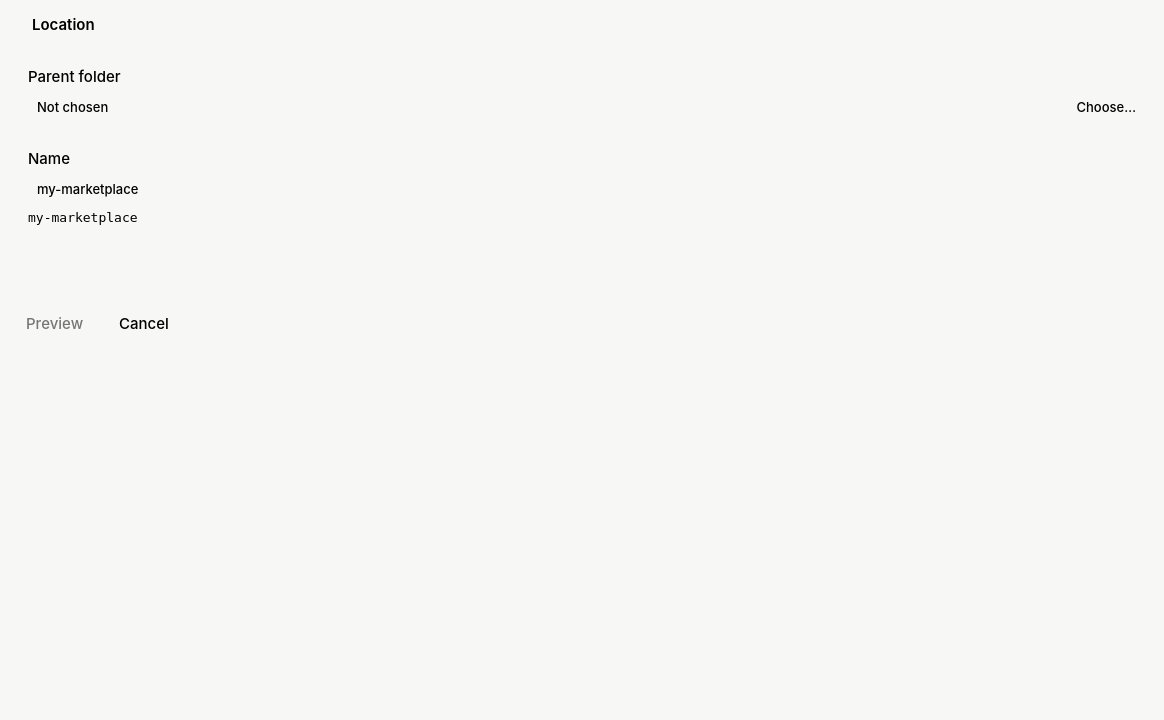
CreateMarketplaceFlow › chooses a parent, previews exact actions, then applies and reports the receipt
Step 1. Click the button with test id "create-marketplace-pick-parent" → coordinates (1106, 108), box 1064,94 -> 1148,122
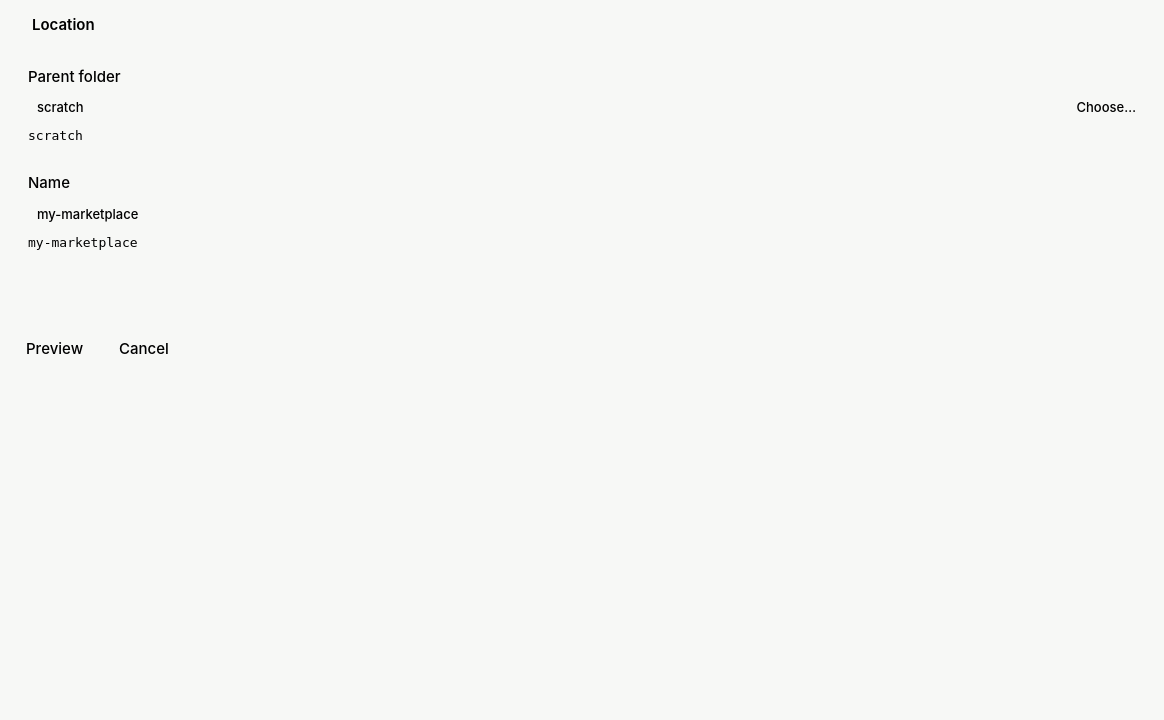
Expected: the text "scratch" is shown, 28,128 -> 83,142
Step 2. Click the button with test id "create-marketplace-preview" → coordinates (55, 349), box 12,333 -> 97,365
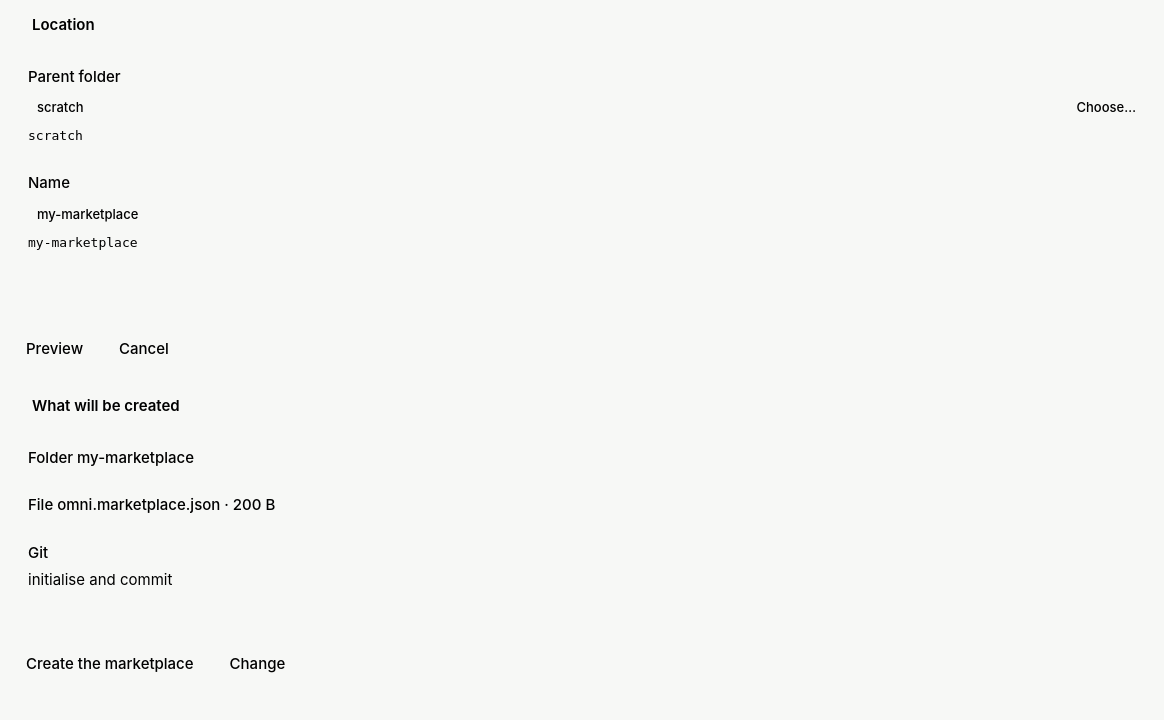
Expected: the text "omni.marketplace.json" is shown, 28,495 -> 275,514
Expected: the text "initialise and commit" is shown, 28,570 -> 172,589
Step 3. Click the button with test id "create-marketplace-apply" → coordinates (110, 664), box 12,648 -> 208,680
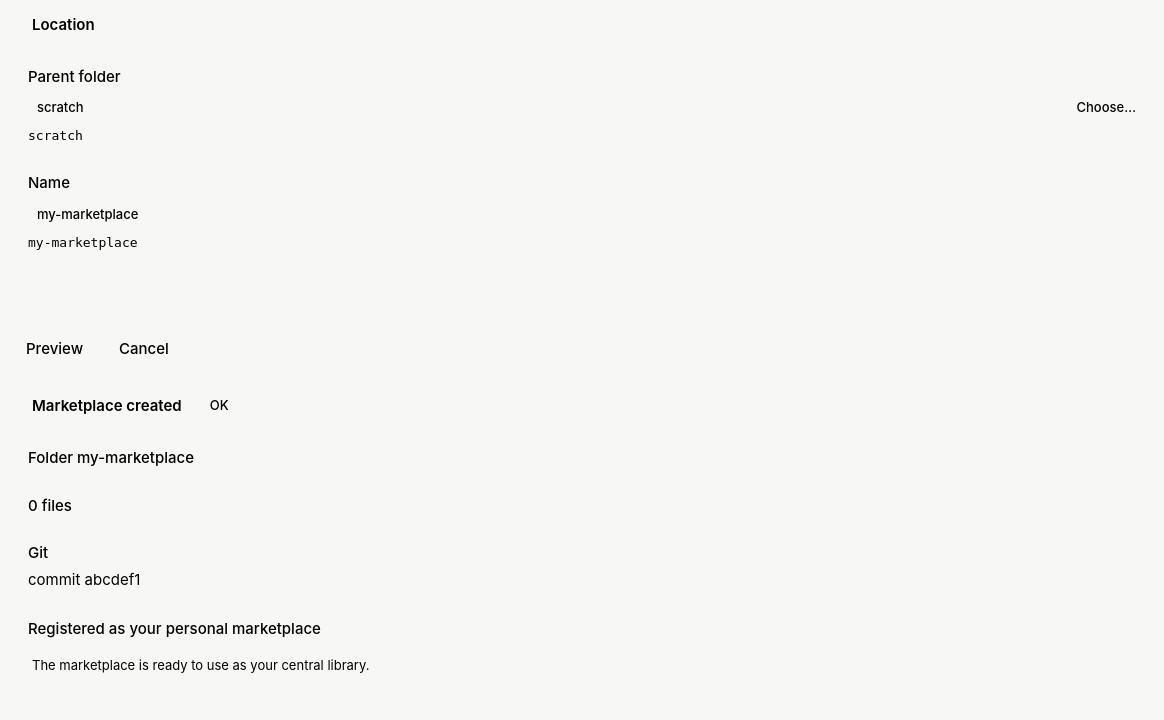
Expected: the text "Marketplace created" is shown, 32,395 -> 182,417
